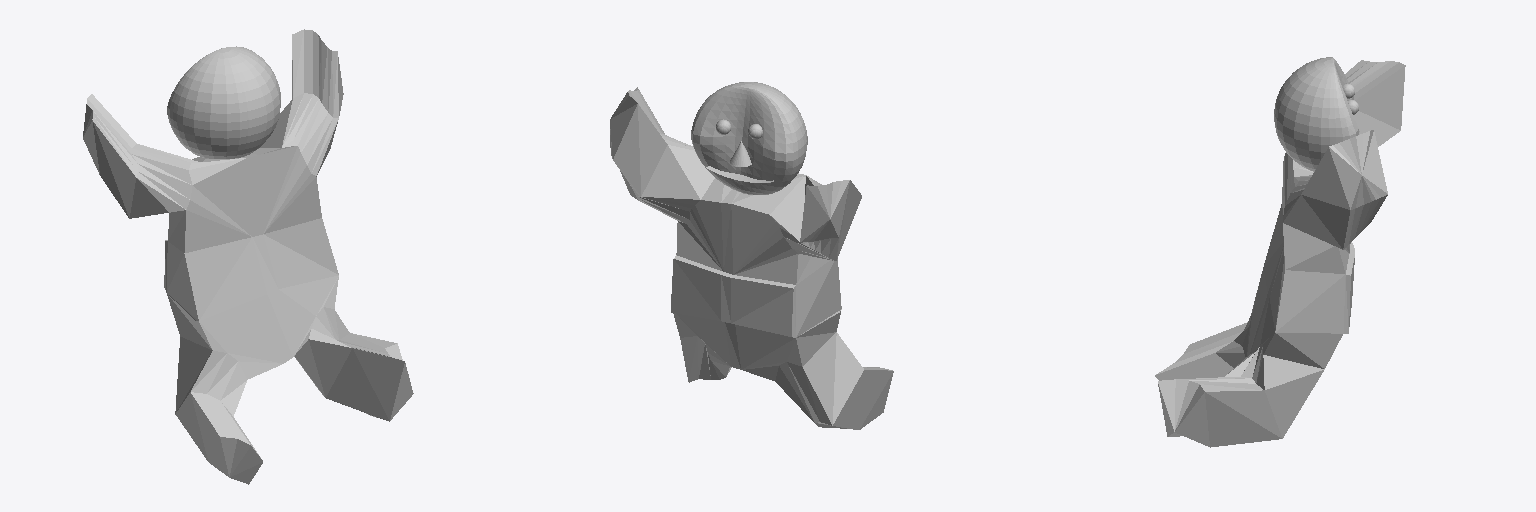
Rendered from manjump_000018.obj.
The picture shows the model from 3 angles: view 1: azimuth 30°, elevation 25°; view 2: azimuth 150°, elevation 25°; view 3: azimuth 270°, elevation 25°; orthographic projection.
Visible parts, largest first — view 1: Cube; view 2: Cube; view 3: Cube.
Boxes of the visible parts, x1=… form: Cube: x1=83, y1=29, x2=413, y2=484; Cube: x1=610, y1=82, x2=893, y2=429; Cube: x1=1155, y1=57, x2=1405, y2=447.
Bounding box in the file's own units: 79.17 × 117 × 70.04.